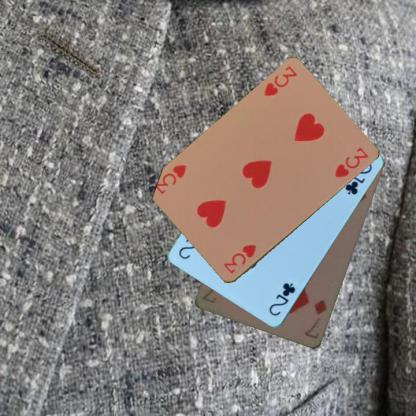2c: (266, 280, 298, 318)
3h: (261, 64, 298, 98), (220, 242, 258, 275)
7d: (301, 297, 328, 340)
